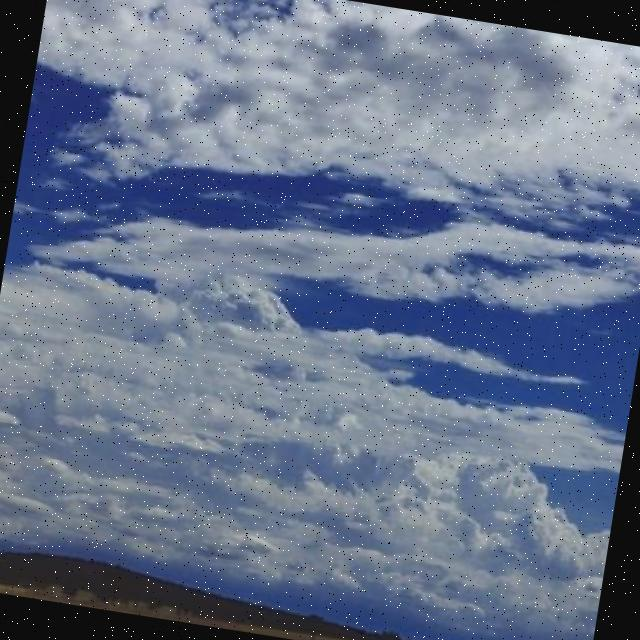Ac: (1, 1, 640, 612)
